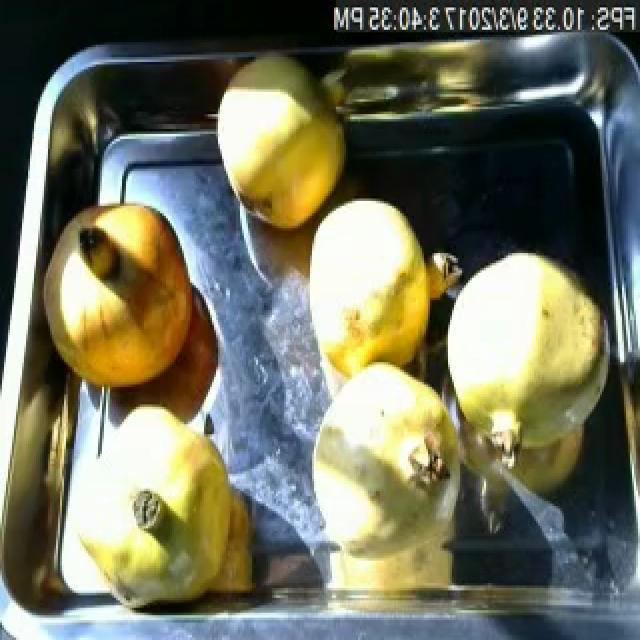fruit: (64, 390, 254, 620), (290, 188, 466, 396), (300, 347, 462, 571), (36, 191, 204, 399), (210, 50, 354, 238)
